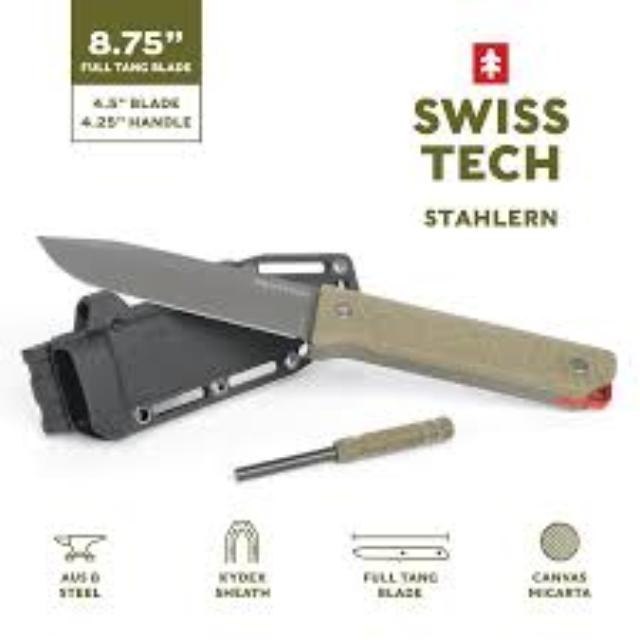knife: (35, 233, 618, 412)
